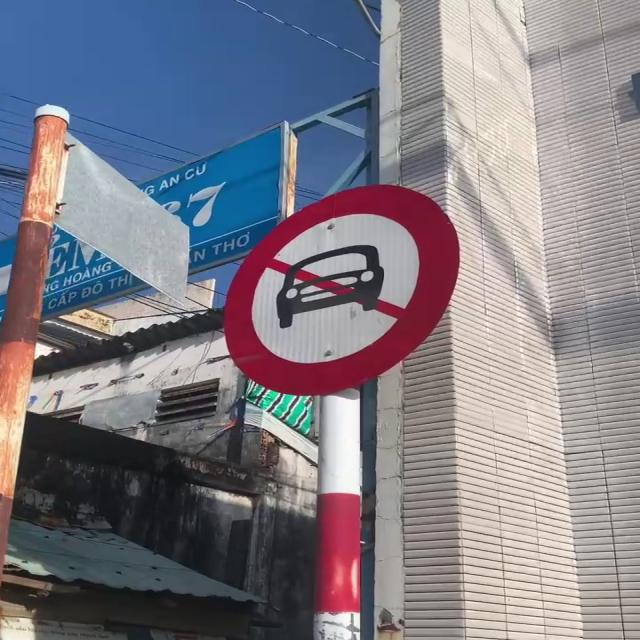Cam_O_To: (219, 186, 466, 397)
